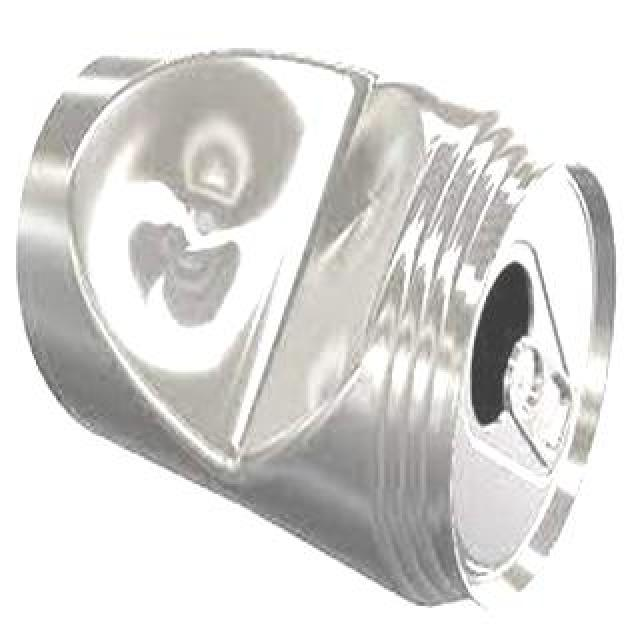Can: (0, 33, 622, 617)
